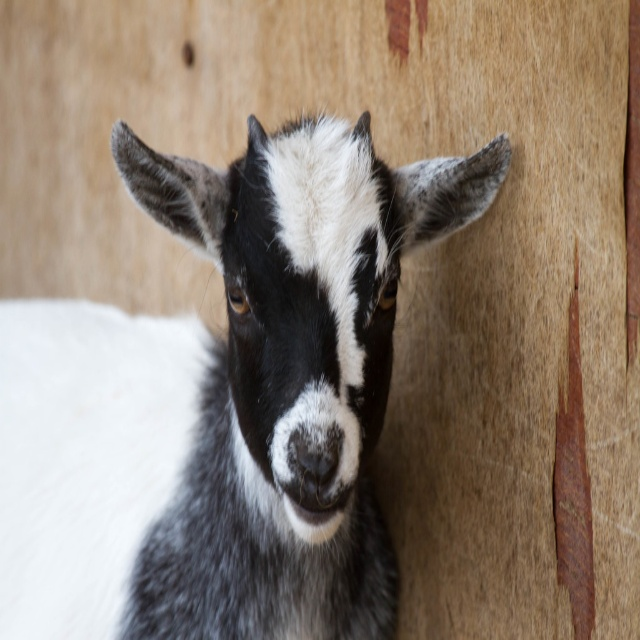Goat: (0, 110, 512, 639)
